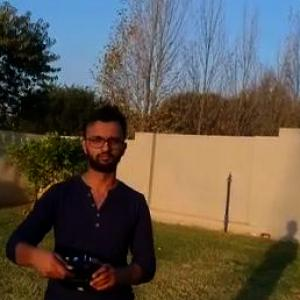follow: (0, 95, 161, 299)
